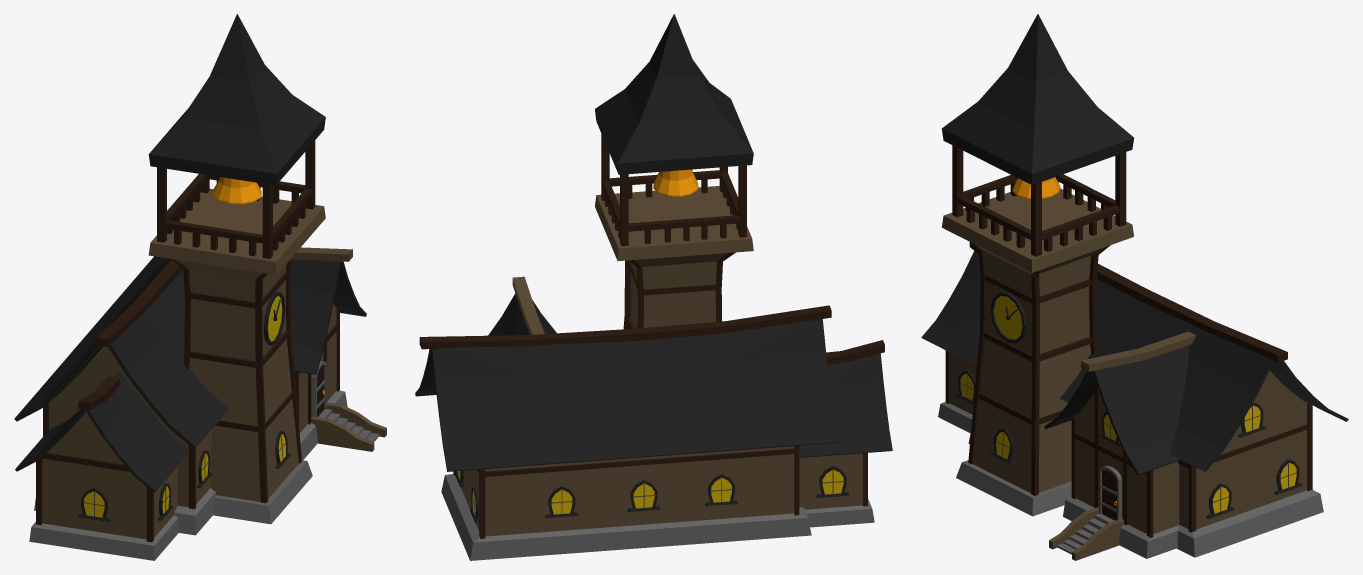
File: Scientists_House.FBX
3 views of the same model, side by side, from view 1: azimuth 30°, elevation 25°; view 2: azimuth 150°, elevation 25°; view 3: azimuth 270°, elevation 25° (orthographic). The views are drawn at different scales.
Visible parts, largest first — view 1: Box049; view 2: Box049; view 3: Box049.
Part boxes in pixels (x1,y1,x2,y2): Box049: (14,14,386,560); Box049: (415,14,892,560); Box049: (921,14,1348,560).
Size of the model in its own units: 3974 by 4434 by 3678.
